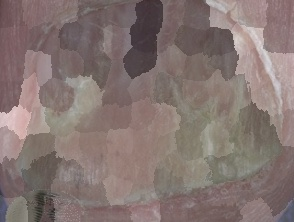Nail_psoriasis: (7, 0, 294, 222)
